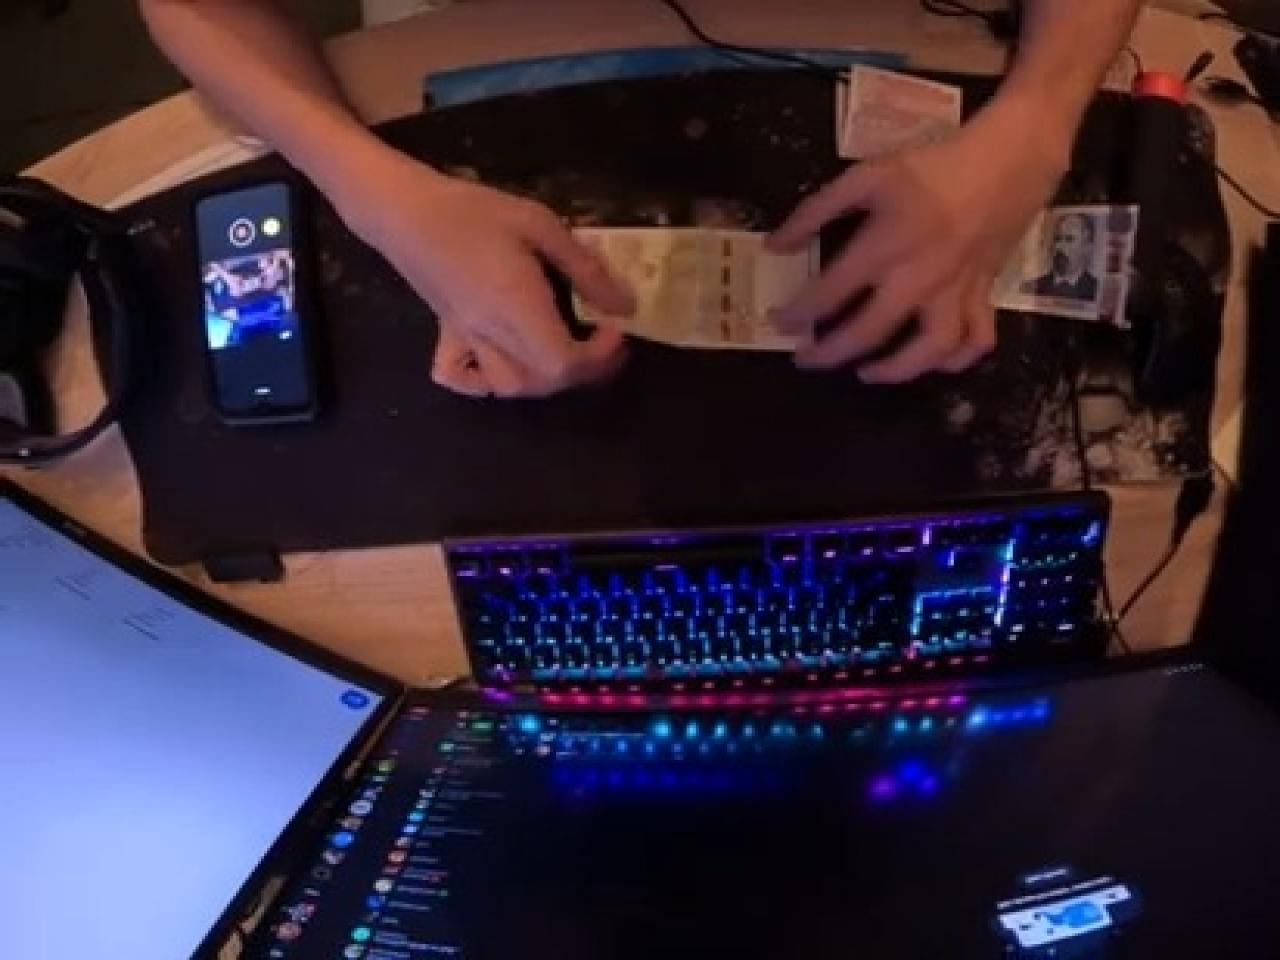50leva: (574, 221, 814, 349)
